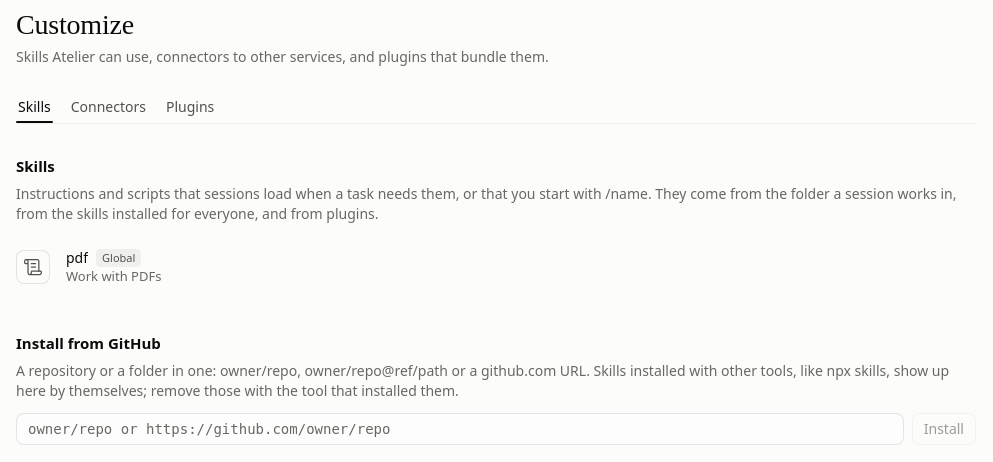
Test: CustomizePage › shows skills, connectors and plugins as tabs, the tab kept in the address
The image size is (993, 462).
Expected: the text "pdf" is shown, [66,248,88,268]
Expected: the button named "Install" is shown, [912,413,976,445]
What coordinates should you click on to do the following:
click the tab "Plugins"
I would click on:
 (190, 107)
Its box is [164,91,216,123].
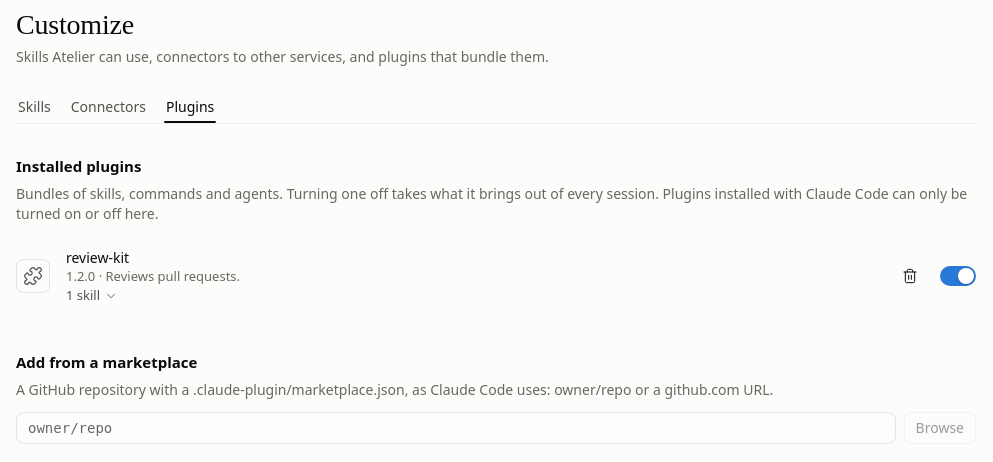
Expected: the switch named "Enable review-kit" is shown, [940,266,976,286]
Expected: the heading "Add from a marketplace" is shown, [16,352,197,372]
